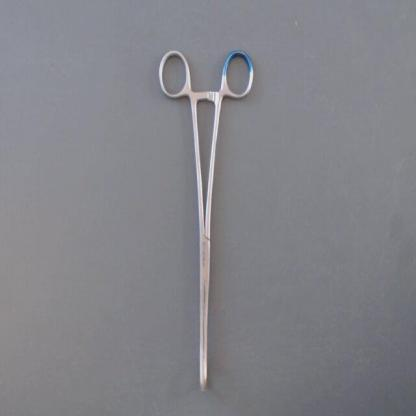Sponge Forceps: (151, 41, 260, 400)
